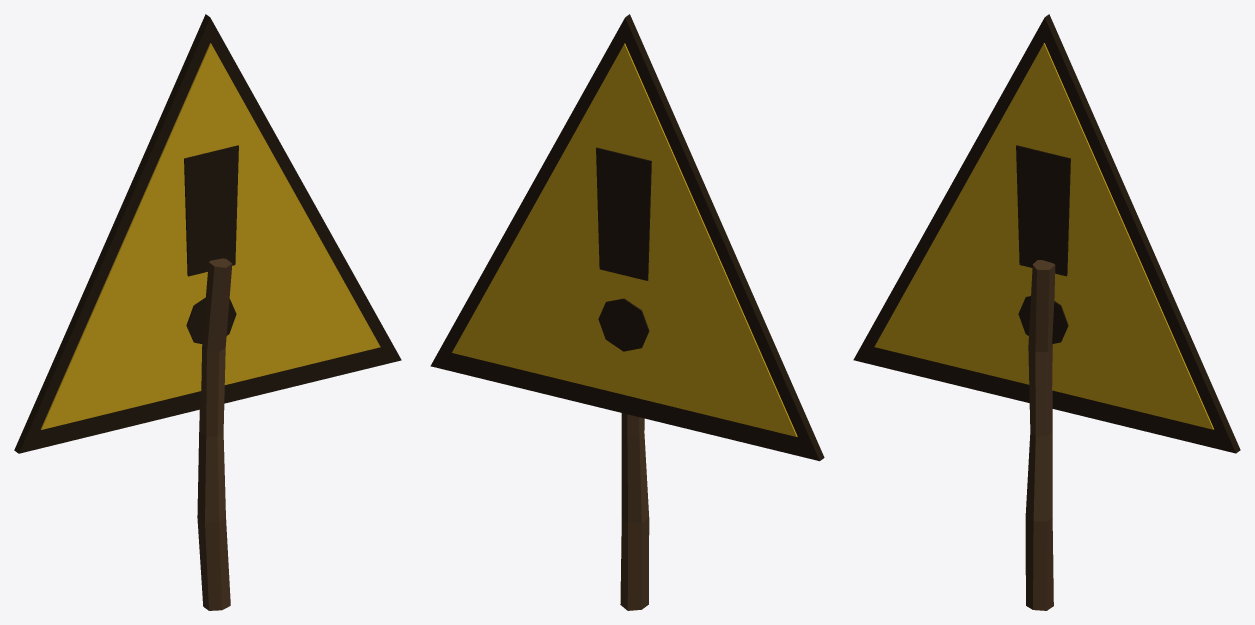
Rendered from wip_sign.glb.
3 views of the same model, side by side, from view 1: azimuth 30°, elevation 25°; view 2: azimuth 150°, elevation 25°; view 3: azimuth 330°, elevation 25° (orthographic).
Visible parts, largest first — view 1: wip_sign; view 2: wip_sign; view 3: wip_sign.
Boxes of the visible parts, box(x1,y1,x2,y2) form: wip_sign: box(14, 14, 401, 610); wip_sign: box(430, 14, 824, 610); wip_sign: box(853, 14, 1240, 610).
Bounding box in the file's own units: 2.84 × 4.15 × 0.2309.
